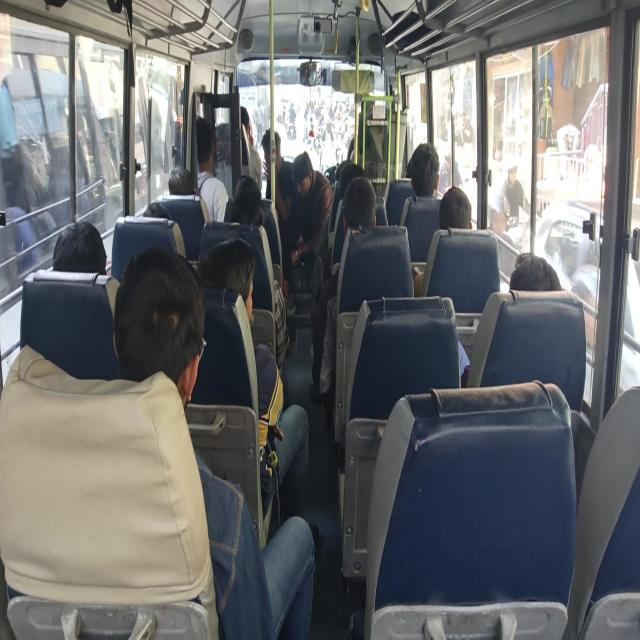person: (112, 245, 316, 638), (197, 236, 310, 523), (309, 176, 376, 433), (508, 251, 597, 351), (412, 185, 472, 296), (289, 150, 333, 266), (195, 116, 229, 222), (260, 128, 295, 224), (52, 219, 107, 275), (508, 252, 561, 292), (240, 105, 262, 193), (406, 142, 440, 198), (500, 156, 530, 218), (228, 175, 265, 225), (487, 192, 515, 249), (438, 186, 472, 230), (168, 165, 195, 195)
